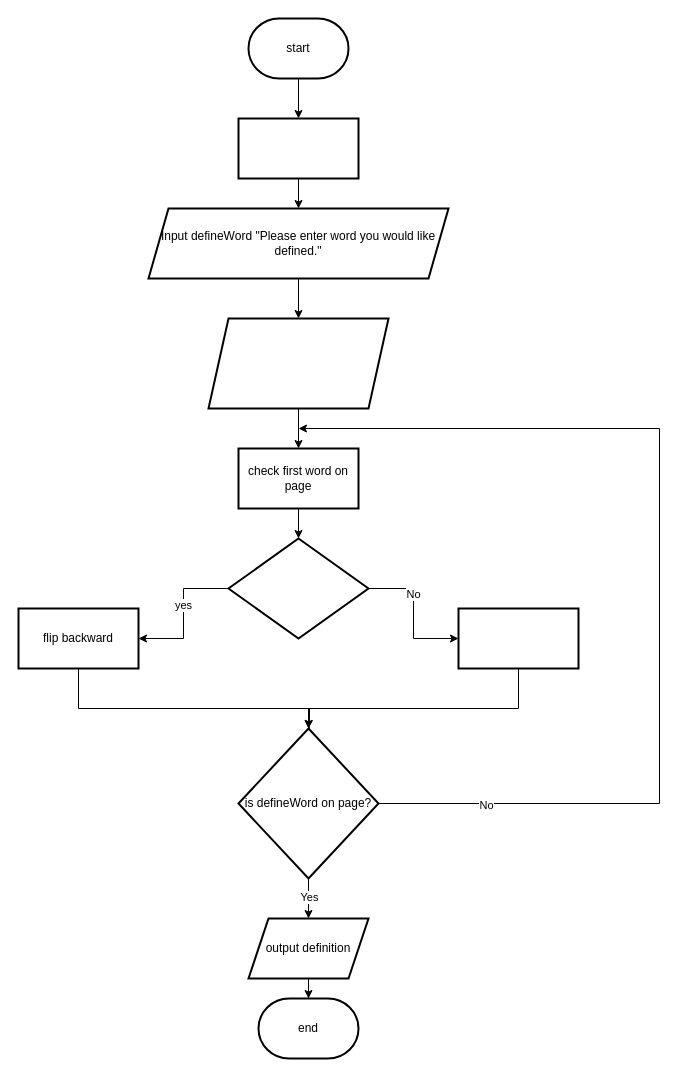
The diagram is 685 pixels wide and 1076 high, and some of its shapes have lost their labels. Each missing label, with the box of its shape:
Declarations string defineWord: (237, 117, 359, 179)
flip forward: (457, 607, 579, 669)
Is word before defineWord: (227, 537, 369, 639)
Output randomPage: (207, 317, 389, 409)
